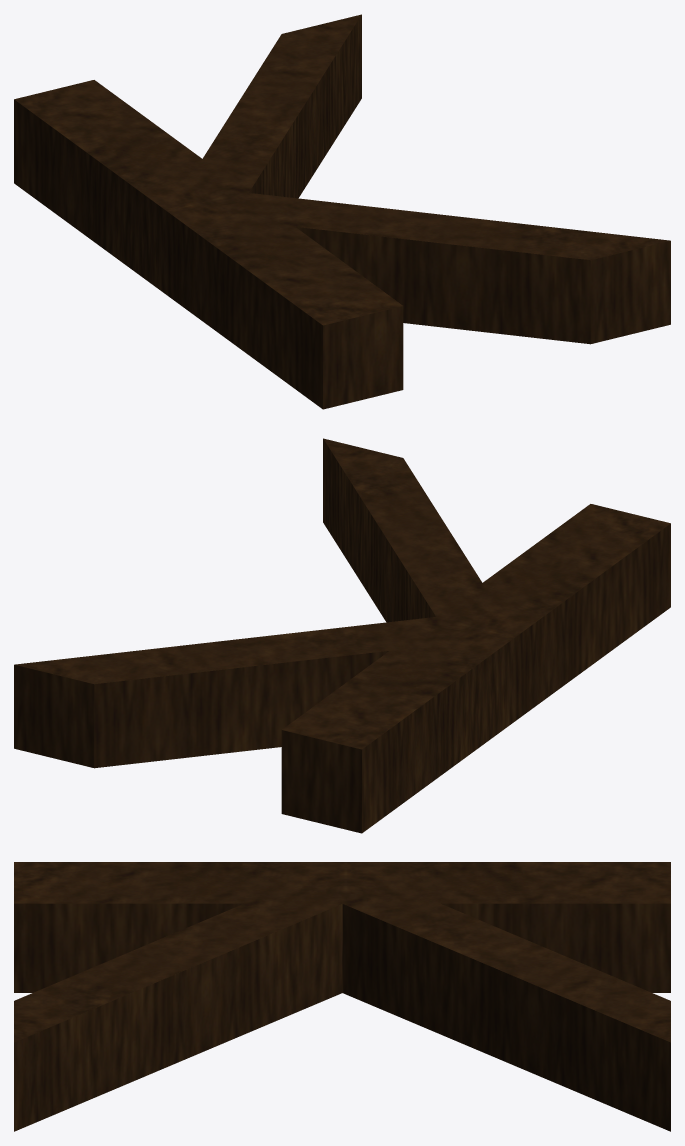
Rendered from LetterK.obj.
3 renders of one model, top to bottom at view 1: azimuth 30°, elevation 25°; view 2: azimuth 150°, elevation 25°; view 3: azimuth 270°, elevation 25°, orthographic. The views are drawn at different scales.
Visible parts, largest first — view 1: LetterK; view 2: LetterK; view 3: LetterK.
Boxes of the visible parts, bbox=[...] form: LetterK: bbox=[14, 14, 670, 409]; LetterK: bbox=[14, 438, 670, 833]; LetterK: bbox=[14, 862, 670, 1131].
Bounding box in the file's own units: 0.65 × 0.15 × 1.
